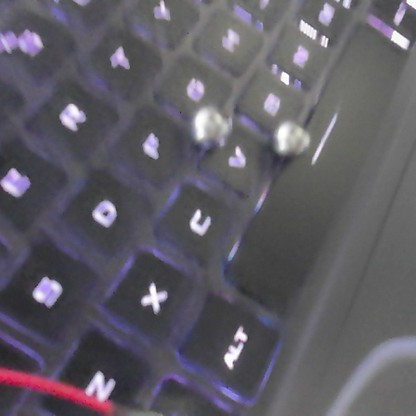ironball: (187, 99, 234, 155), (266, 115, 311, 162)
